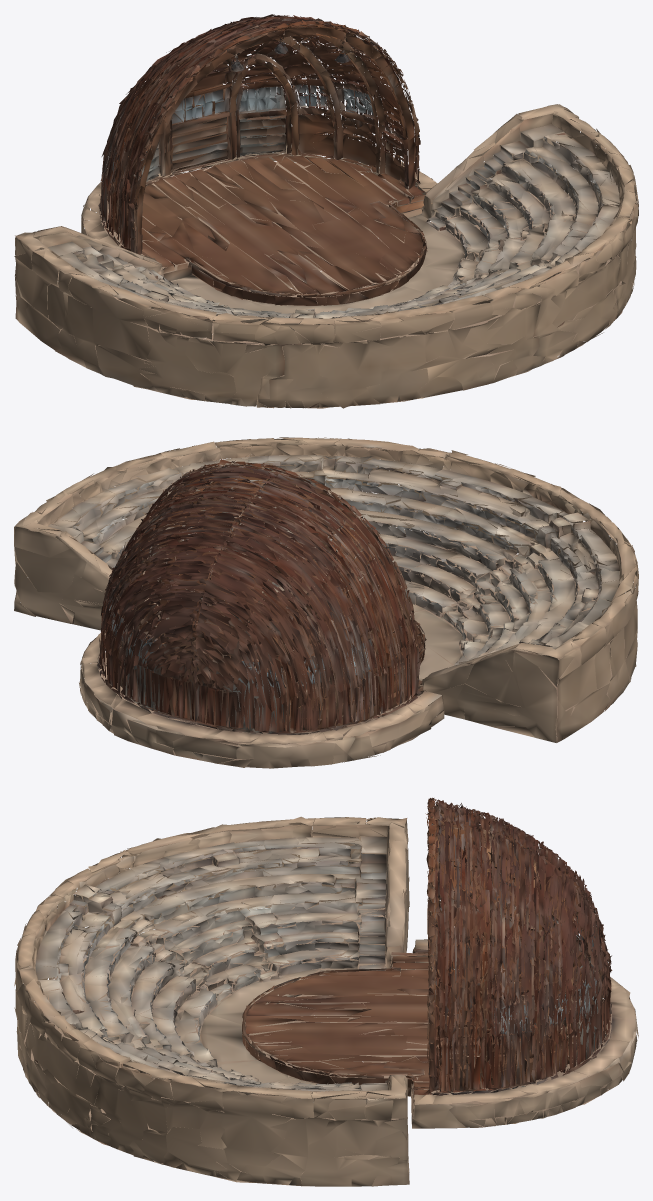
The model's file is amphitheater.glb.
The picture shows the model from 3 angles, top to bottom: view 1: azimuth 30°, elevation 25°; view 2: azimuth 150°, elevation 25°; view 3: azimuth 270°, elevation 25°; orthographic projection. The views are drawn at different scales.
Parts seen in each view (by area): view 1: LO.001; view 2: LO.001; view 3: LO.001.
Part boxes in pixels (<box>): LO.001: <box>14,14,638,408</box>; LO.001: <box>14,437,638,768</box>; LO.001: <box>14,797,638,1186</box>.
Bounding box in the file's own units: 1.9 × 0.7329 × 1.78.
Materials: 1 (1 with a texture image).
